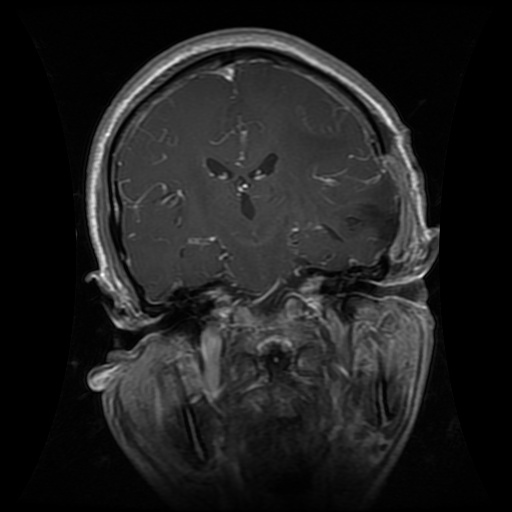glioma: (301, 186, 401, 271)
